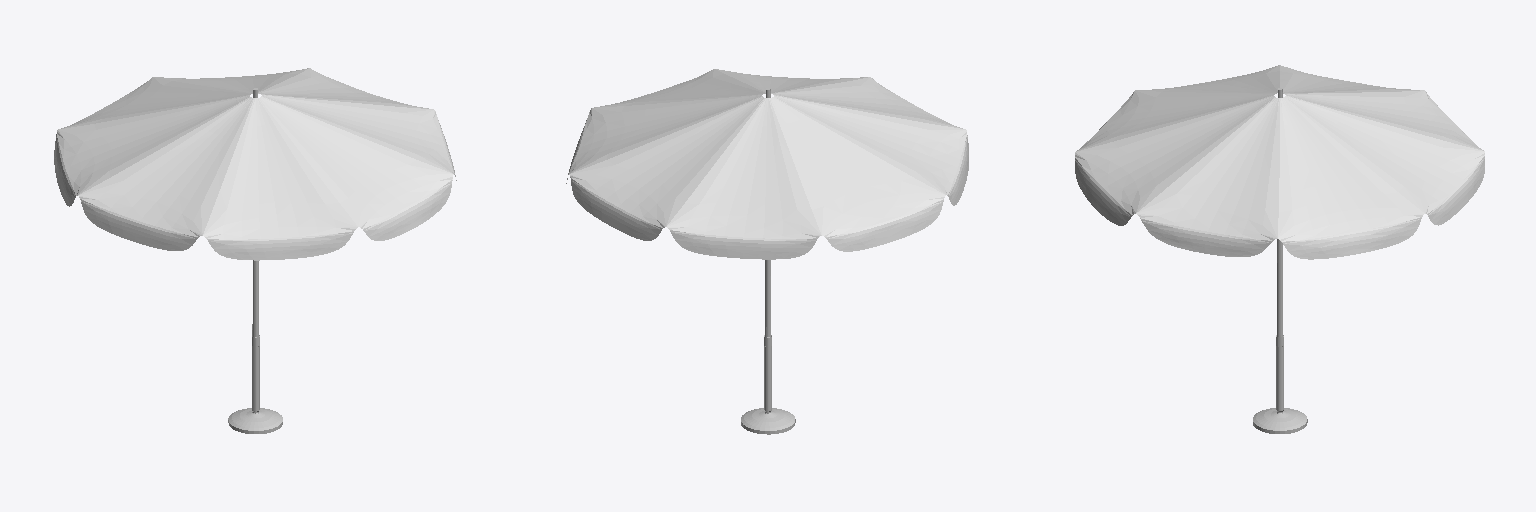
Rendered from loft_umbrella.obj.
3 renders of one model, left to right at view 1: azimuth 30°, elevation 25°; view 2: azimuth 150°, elevation 25°; view 3: azimuth 270°, elevation 25°, orthographic.
Parts seen in each view (by area): view 1: Umbrella_Cylinder.001, Umbrella_Stand_Cylinder; view 2: Umbrella_Cylinder.001, Umbrella_Stand_Cylinder; view 3: Umbrella_Cylinder.001, Umbrella_Stand_Cylinder.
Part boxes in pixels (left/top/right/bottom): Umbrella_Cylinder.001: left=54, top=68, right=456, bottom=260; Umbrella_Stand_Cylinder: left=228, top=88, right=282, bottom=433; Umbrella_Cylinder.001: left=566, top=69, right=968, bottom=259; Umbrella_Stand_Cylinder: left=741, top=88, right=795, bottom=434; Umbrella_Cylinder.001: left=1075, top=65, right=1484, bottom=259; Umbrella_Stand_Cylinder: left=1253, top=88, right=1307, bottom=433.
Bounding box in the file's own units: 223 × 200 × 223.